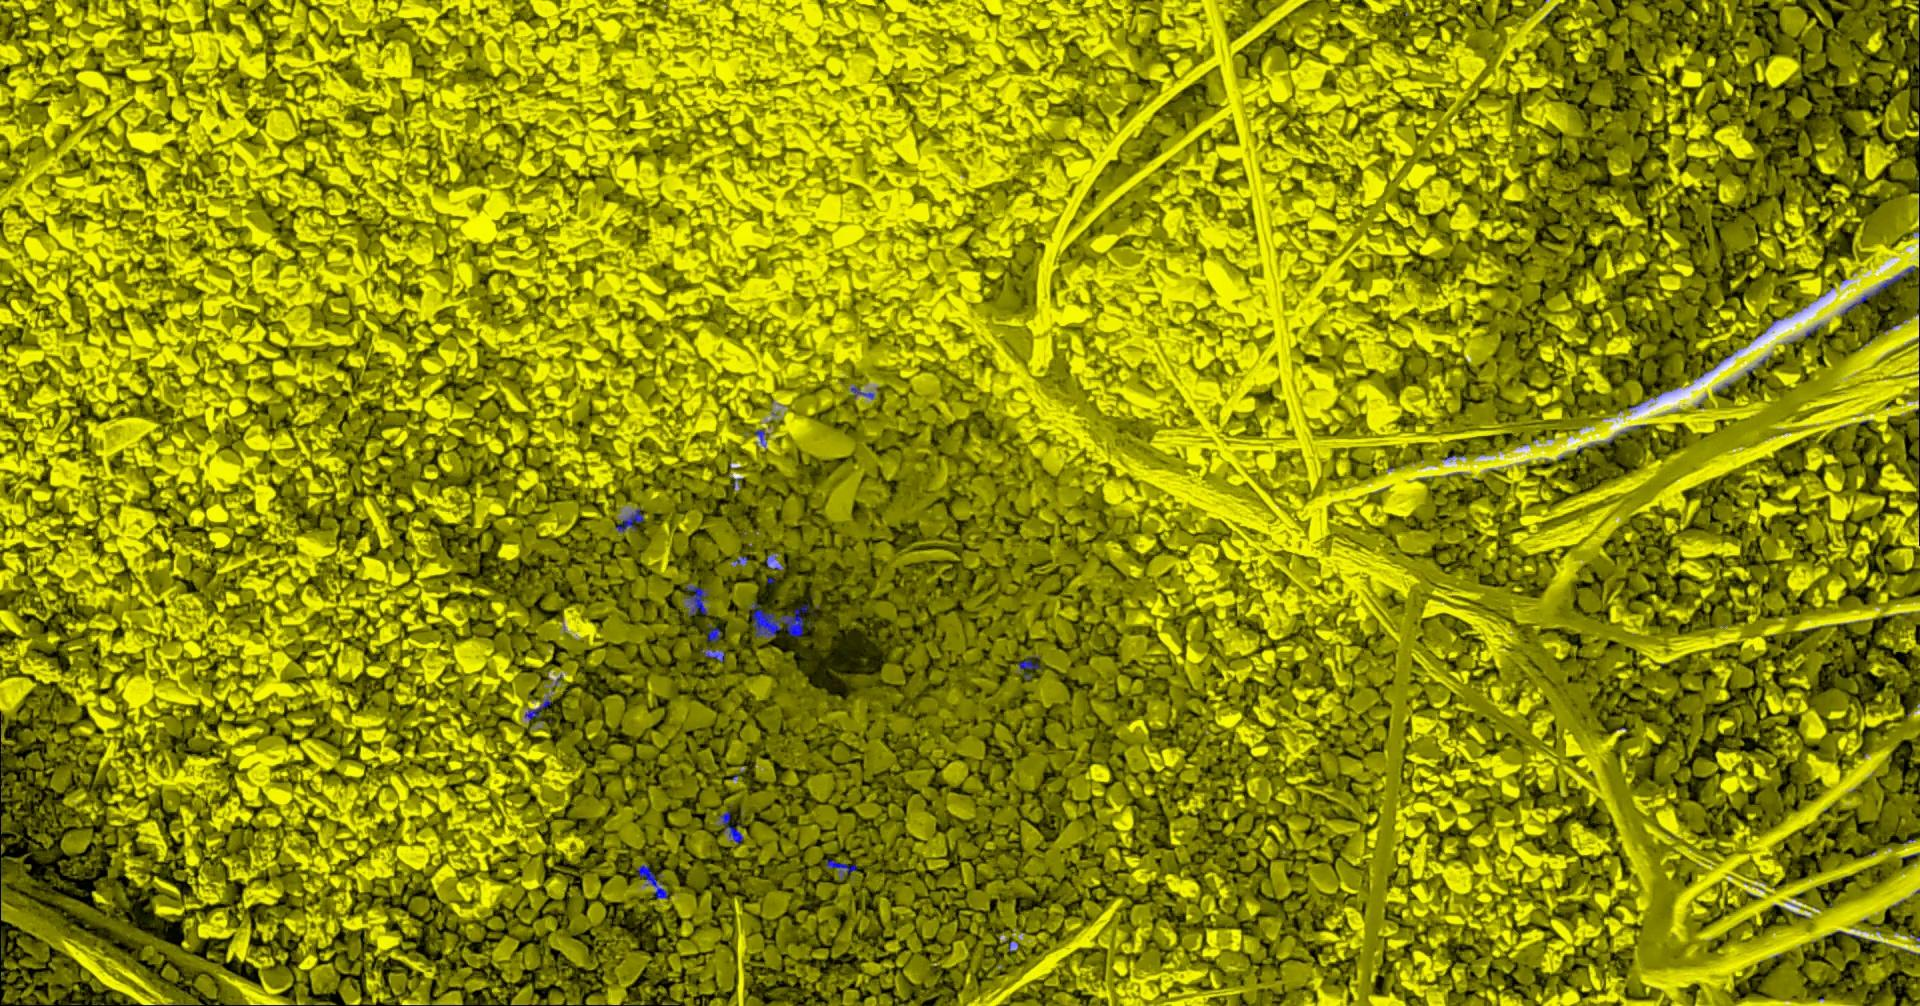ant: (1839, 265, 1919, 315), (637, 864, 667, 898), (717, 810, 743, 843), (684, 586, 709, 615), (524, 695, 550, 721), (615, 507, 643, 531), (825, 859, 856, 879), (1017, 655, 1041, 680), (701, 648, 724, 662), (850, 386, 874, 398), (707, 622, 720, 641)
